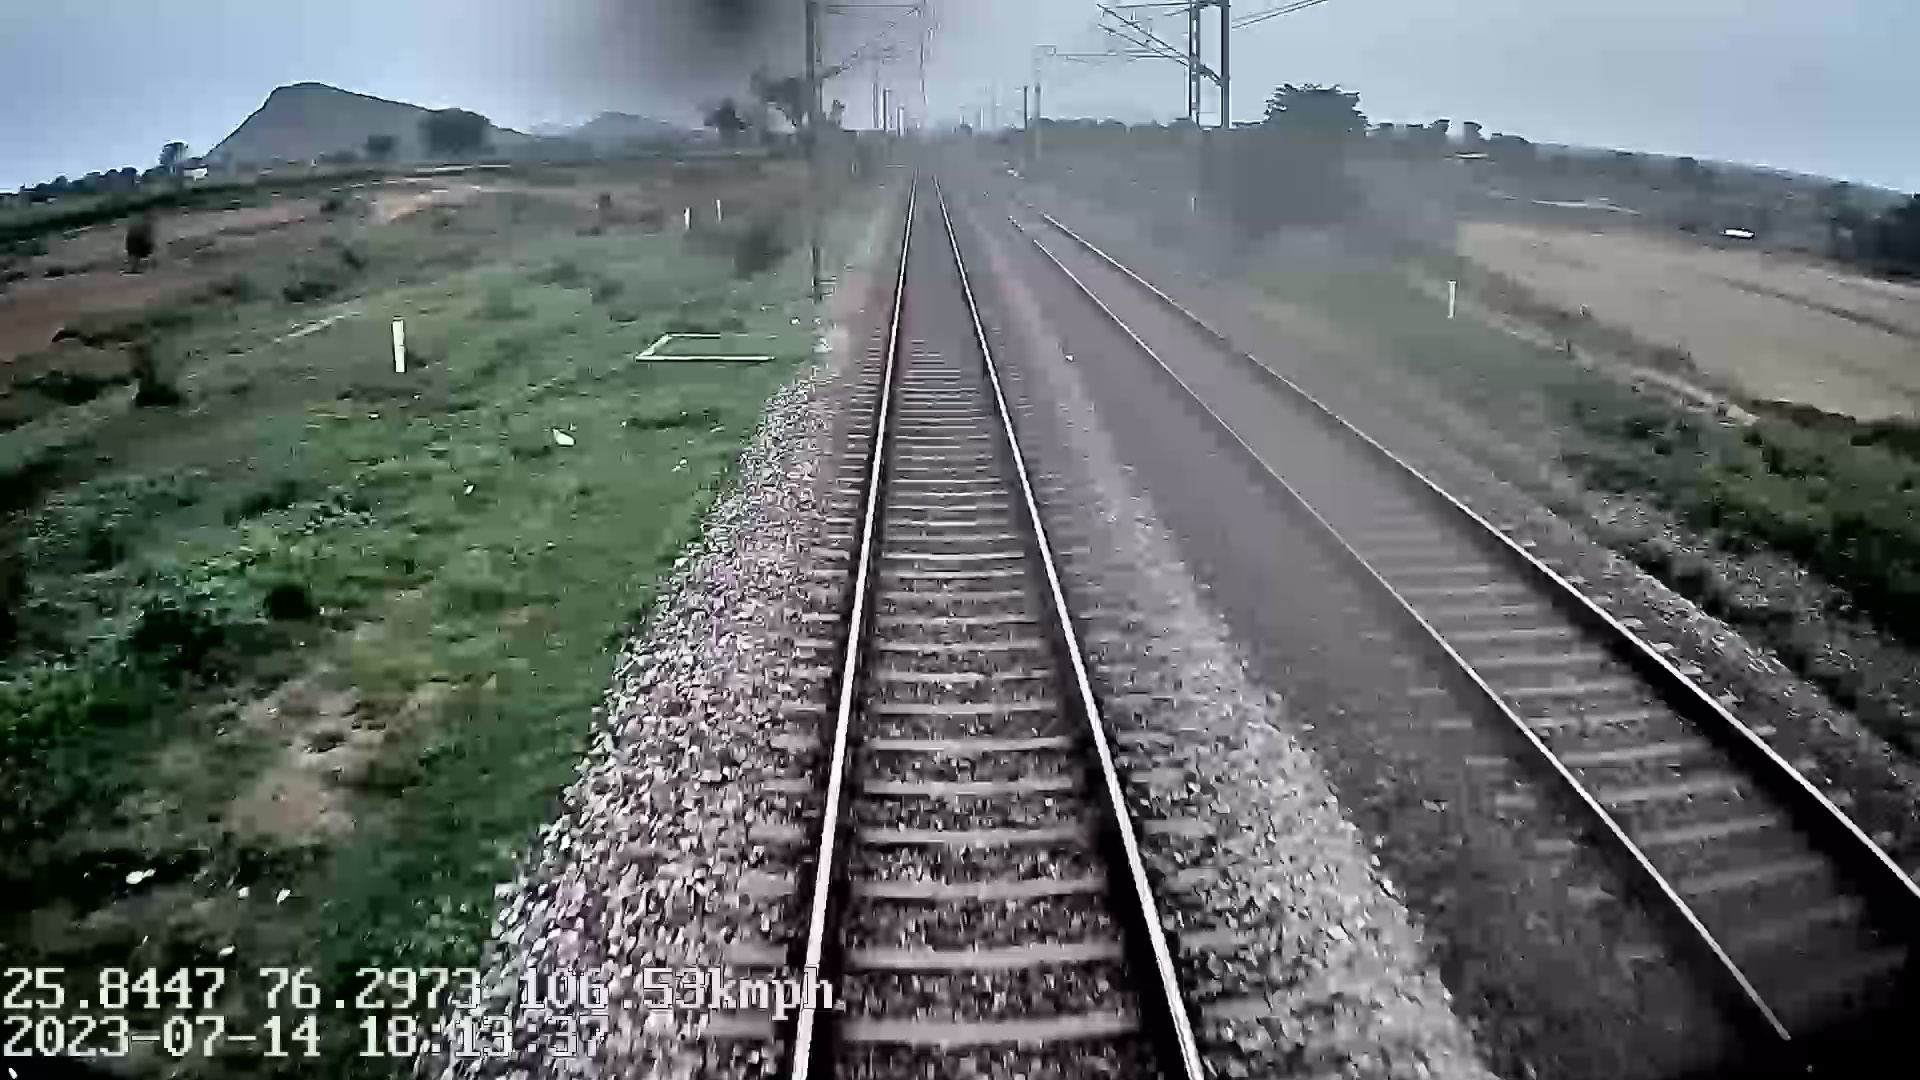track1: (802, 174, 1200, 1071)
track2: (988, 189, 1919, 1021)
